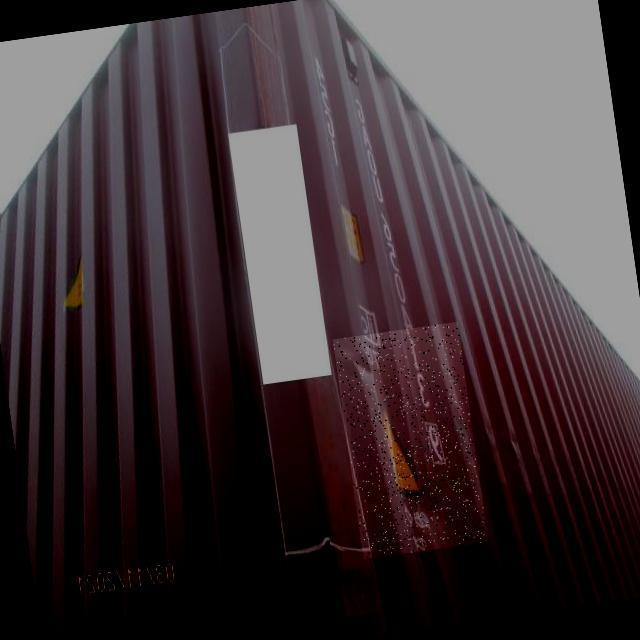dent: (334, 323, 490, 560)
